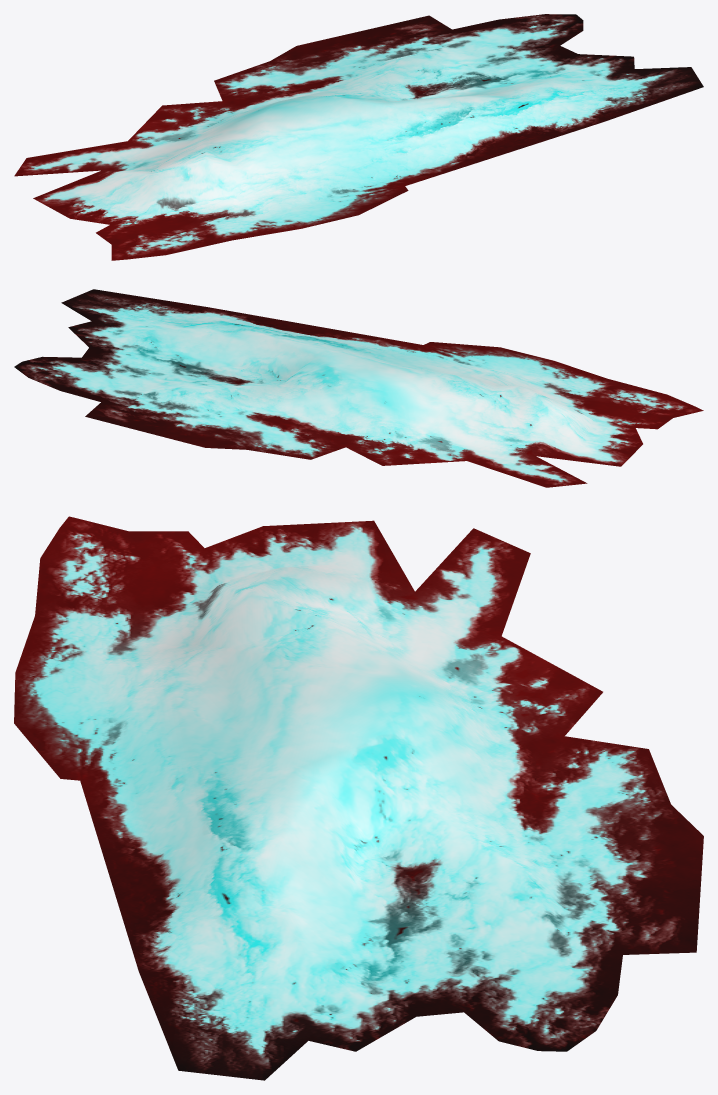
Rendered from Mesh_QuantumMetaCloud_6.FBX.
3 renders of one model, top to bottom at view 1: azimuth 30°, elevation 25°; view 2: azimuth 150°, elevation 25°; view 3: azimuth 270°, elevation 25°, orthographic. The views are drawn at different scales.
Visible parts, largest first — view 1: Mesh_QuantumMetaCloud_6; view 2: Mesh_QuantumMetaCloud_6; view 3: Mesh_QuantumMetaCloud_6.
Part boxes in pixels (x1,y1,x2,y2): Mesh_QuantumMetaCloud_6: [14, 14, 703, 260]; Mesh_QuantumMetaCloud_6: [14, 289, 703, 487]; Mesh_QuantumMetaCloud_6: [14, 516, 703, 1080].
Bounding box in the file's own units: 947 × 489 × 40.12.
